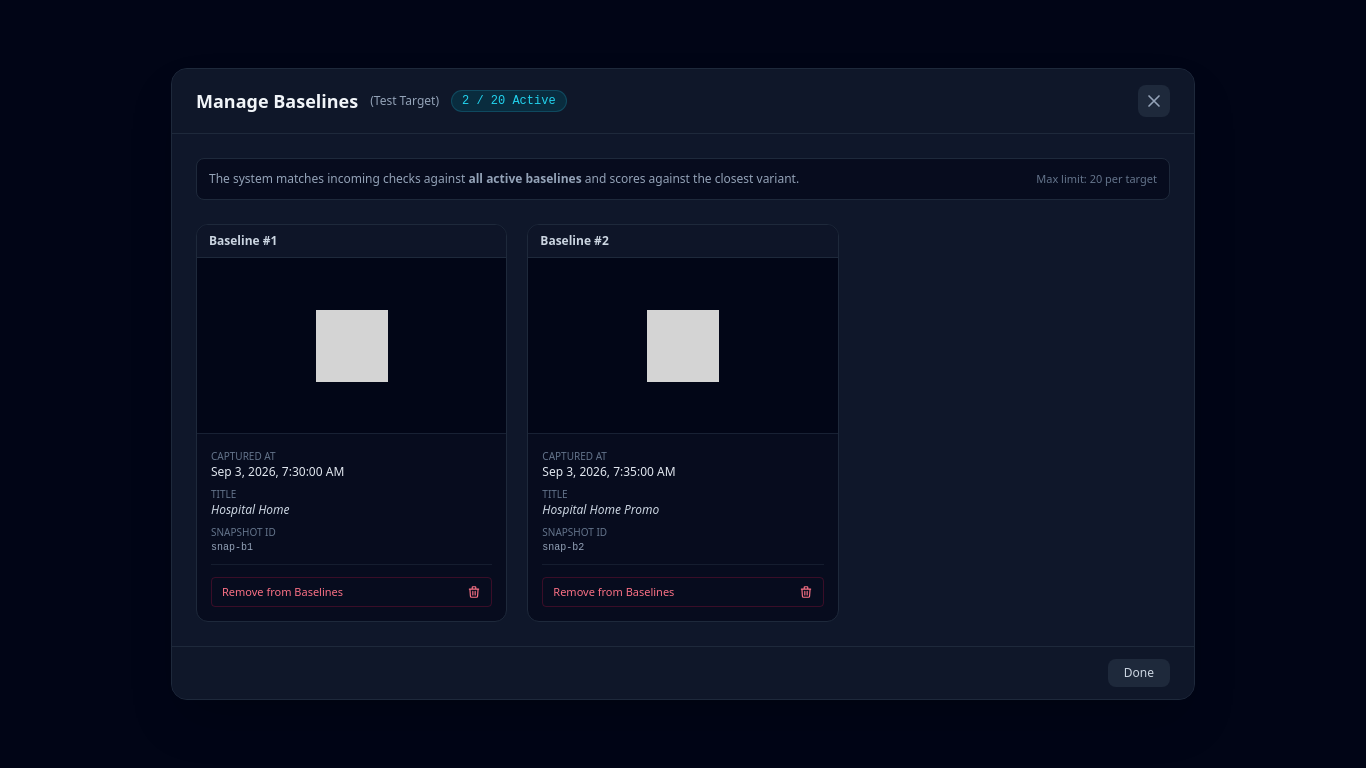
Test: BaselineManagerModal › cancels removal when Cancel is clicked
Click the button "Remove from Baselines" below "snap-b1" at {"x": 283, "y": 592}, box [211,577,492,607]
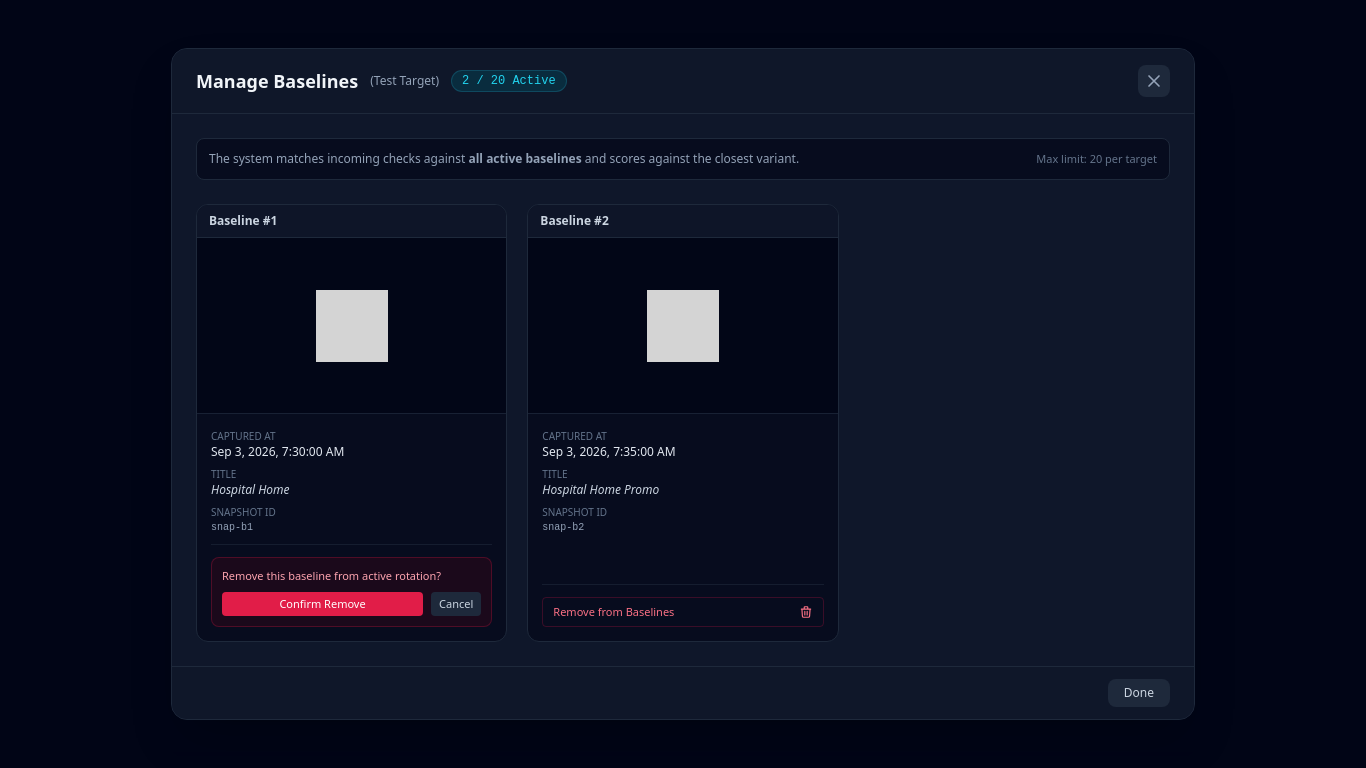
Check: the text "Remove this baseline from active rotation?" is shown, box [222,568,441,583]
Click the button "Cancel" at {"x": 456, "y": 604}, box [431,592,481,616]
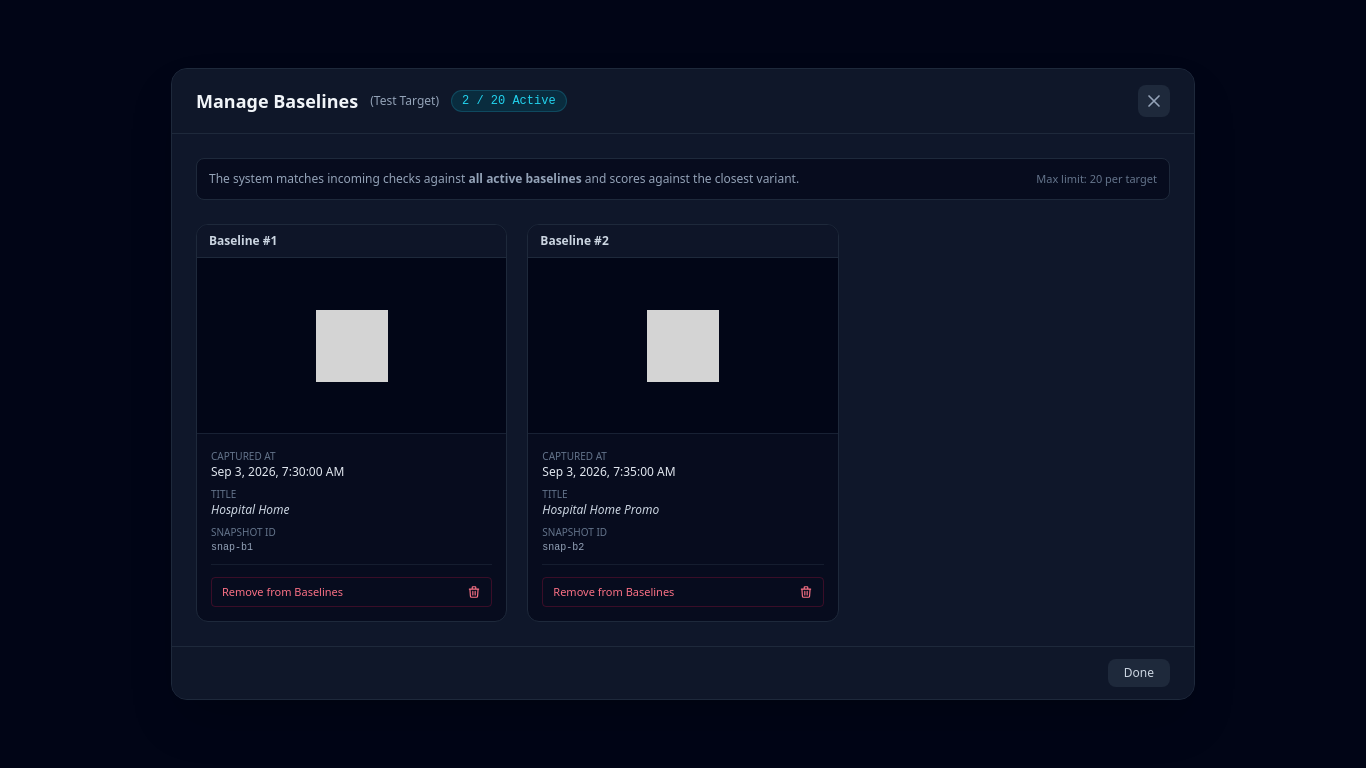
Check: the text "Remove this baseline from active rotation?" is gone
